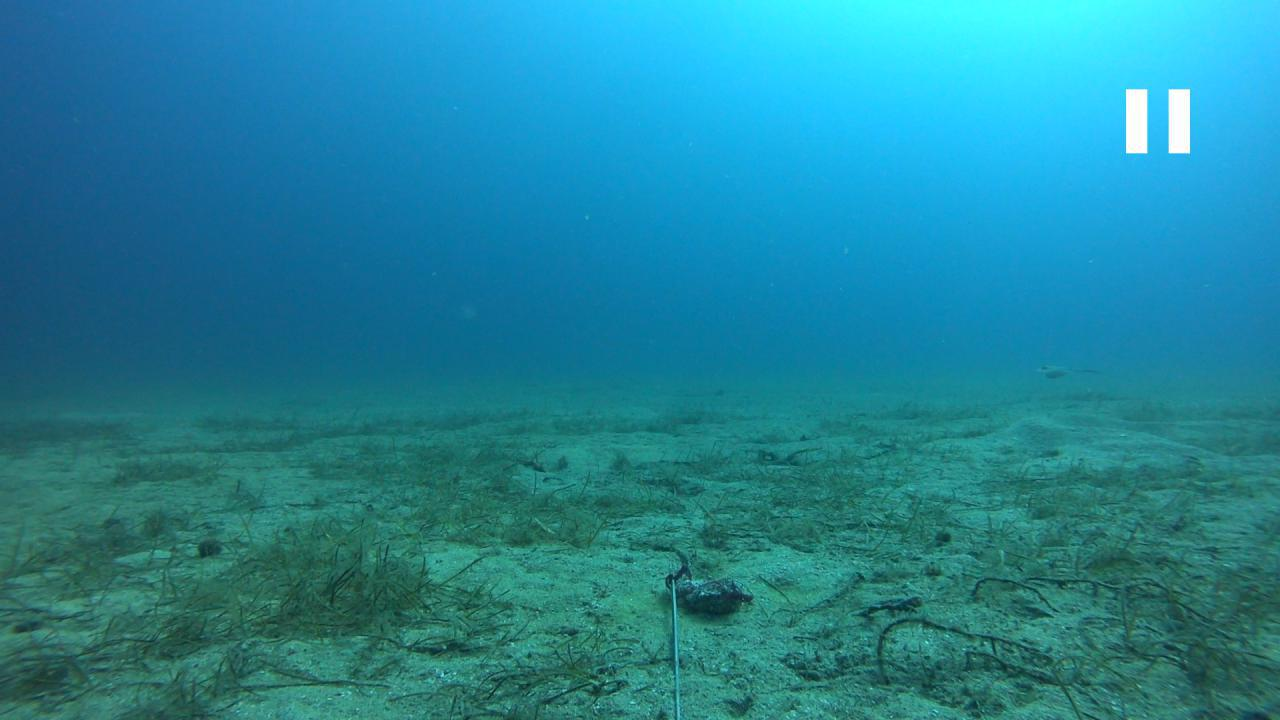dasyatis: (1036, 362, 1102, 378)
